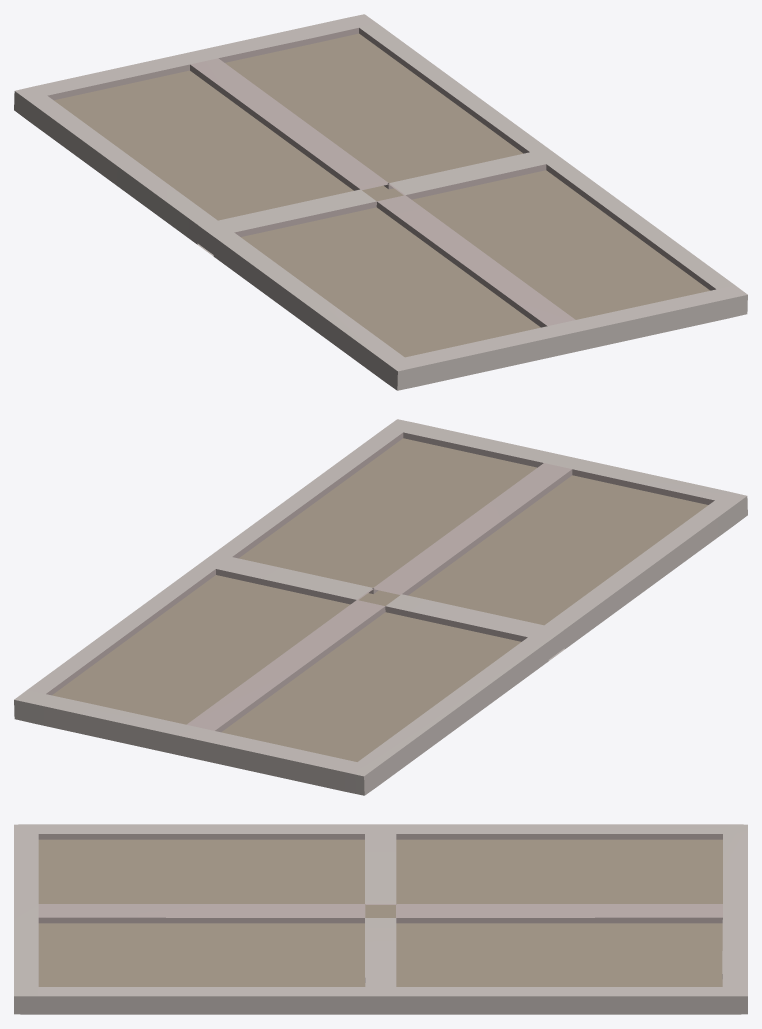
File: garagedoor.obj
3 views of the same model, one above another, from view 1: azimuth 30°, elevation 25°; view 2: azimuth 150°, elevation 25°; view 3: azimuth 270°, elevation 25° (orthographic). The views are drawn at different scales.
Visible parts, largest first — view 1: GarageDoor_Wall.004; view 2: GarageDoor_Wall.004; view 3: GarageDoor_Wall.004.
Part boxes in pixels (x1,y1,x2,y2): GarageDoor_Wall.004: (14, 14, 747, 390); GarageDoor_Wall.004: (14, 419, 747, 795); GarageDoor_Wall.004: (14, 824, 747, 1014).
Bounding box in the file's own units: 3.18 × 0.2442 × 6.01.
Materials: 1 (1 with a texture image).
